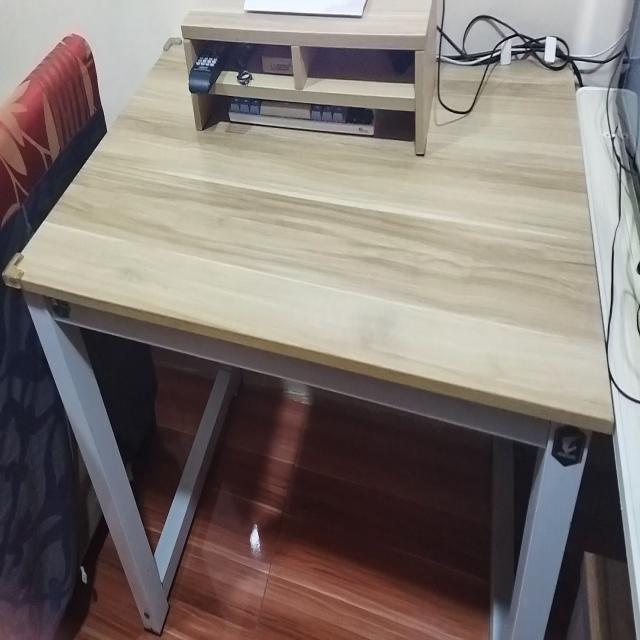table: (2, 28, 616, 640)
